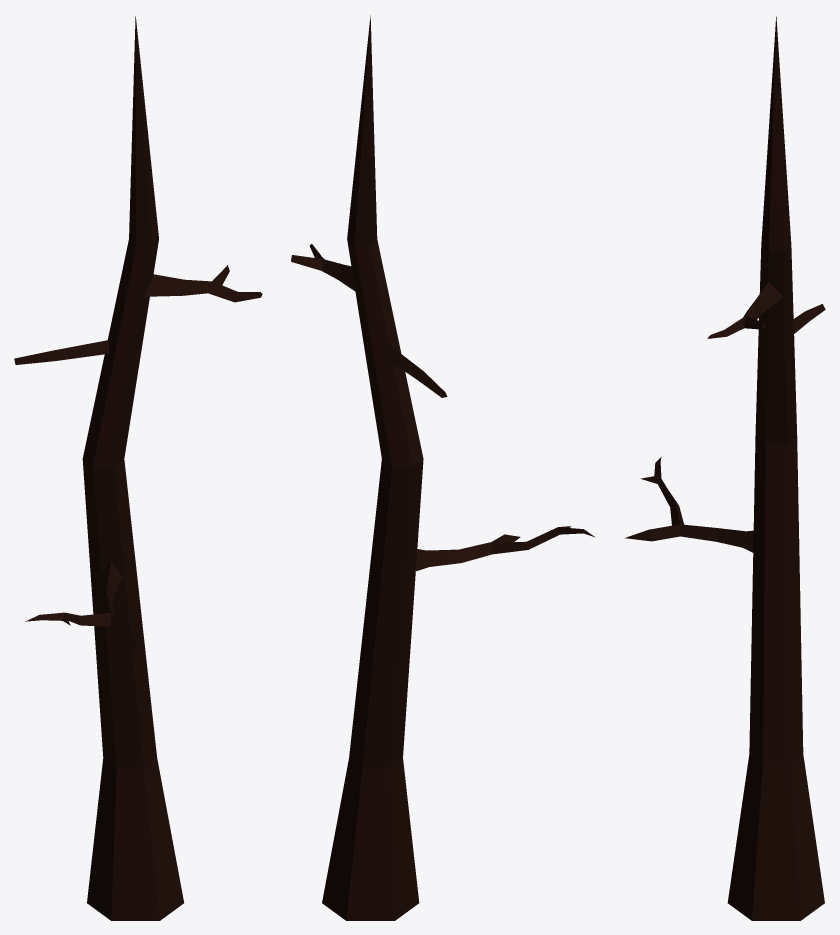
Rendered from DeadSpruceTree2.fbx.glb.
3 renders of one model, left to right at view 1: azimuth 30°, elevation 25°; view 2: azimuth 150°, elevation 25°; view 3: azimuth 270°, elevation 25°, orthographic.
Visible parts, largest first — view 1: DeadSpruceTree2; view 2: DeadSpruceTree2; view 3: DeadSpruceTree2.
Part boxes in pixels (box(x1,y1,x2,y2)): DeadSpruceTree2: box(14, 16, 262, 920); DeadSpruceTree2: box(291, 15, 594, 920); DeadSpruceTree2: box(624, 16, 825, 920).
Bounding box in the file's own units: 175 × 566 × 116.
